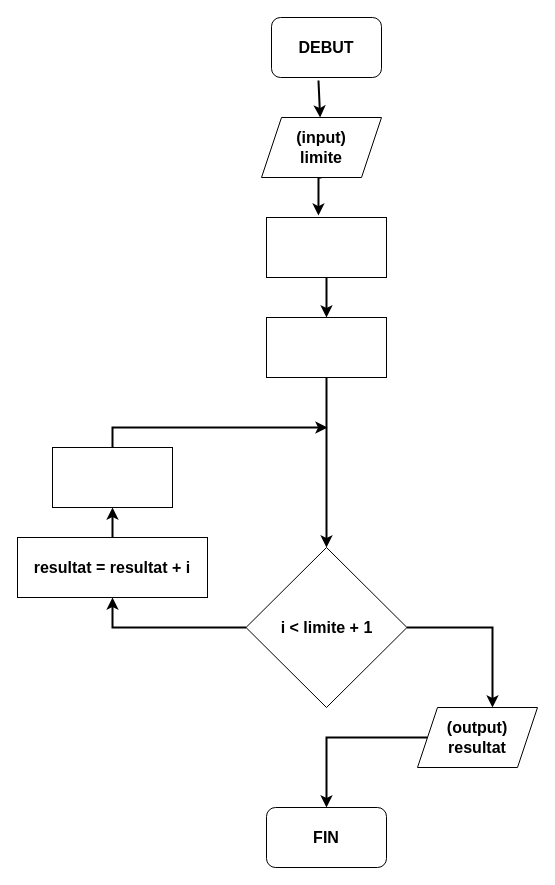
Some shapes in this 555 by 885 pixel diagram are drawn without their labels. Each missing label, with the centre of its shape:
i = 0: (326,347)
i = i + 1: (112,477)
resultat = 0: (326,247)
